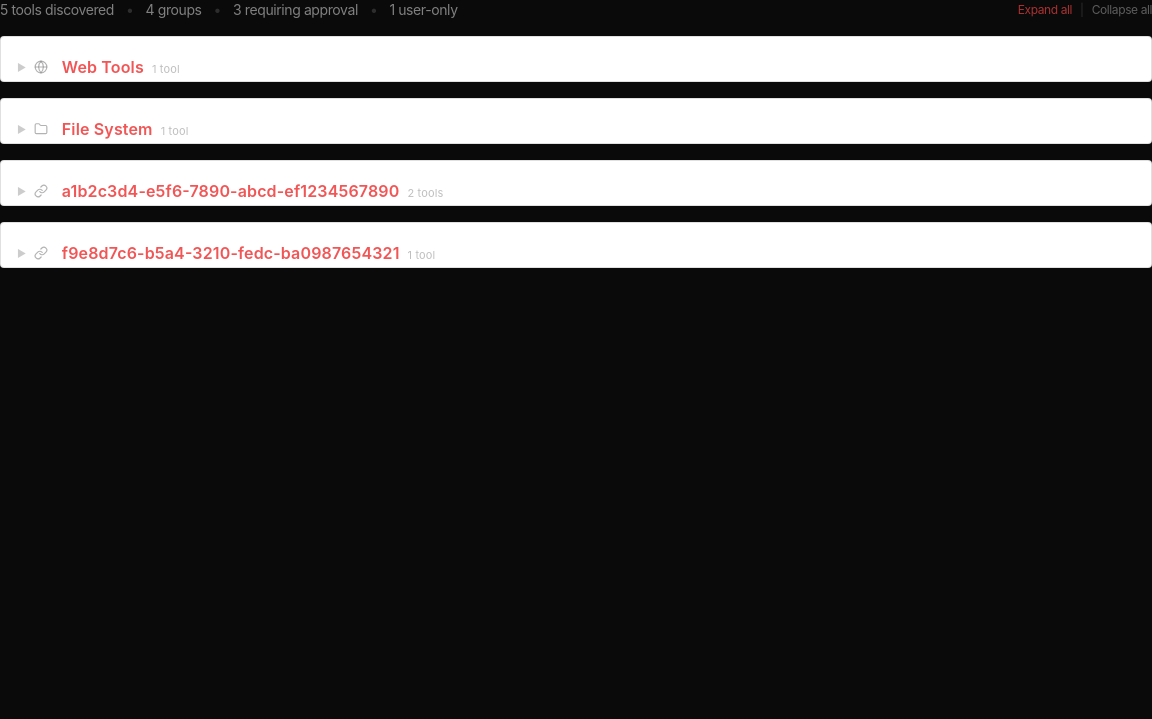
ToolPolicies — server name resolution (Bug #4) › falls back gracefully when /api/mcp fetch throws (network error)
Click the button "Expand all".
click(1045, 10)  # box x1=1018 y1=2 x2=1072 y2=18
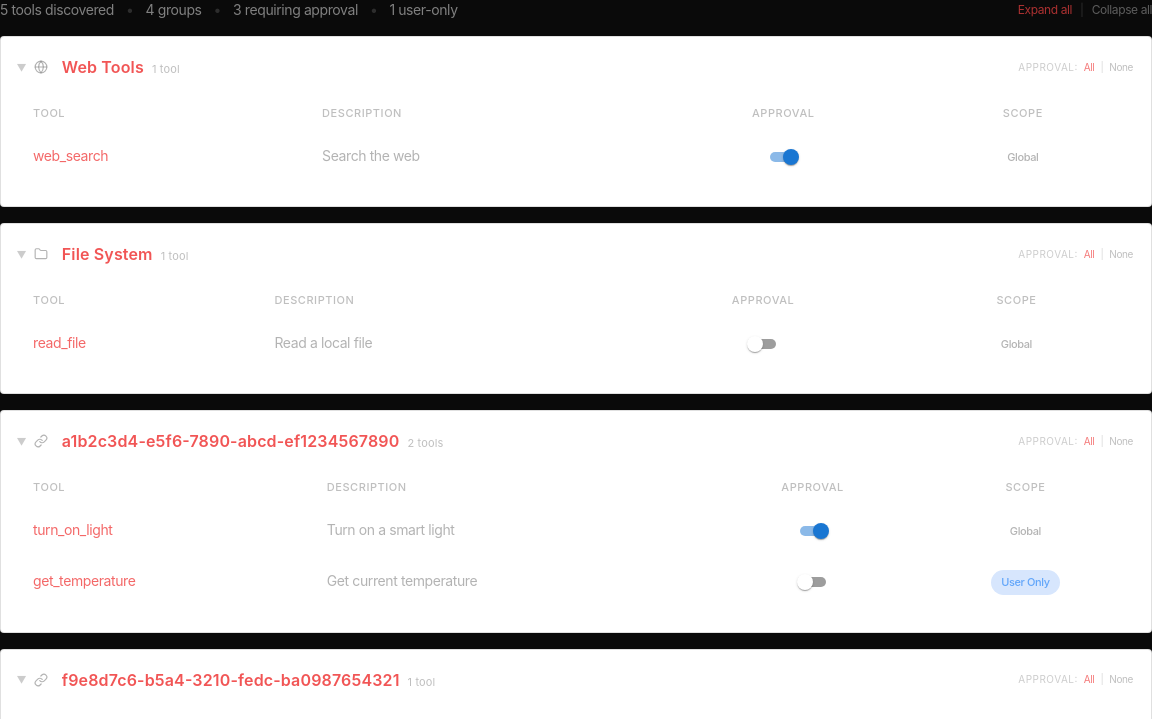
expect the text "turn_on_light" is shown: met, box x1=17 y1=504 x2=311 y2=556
